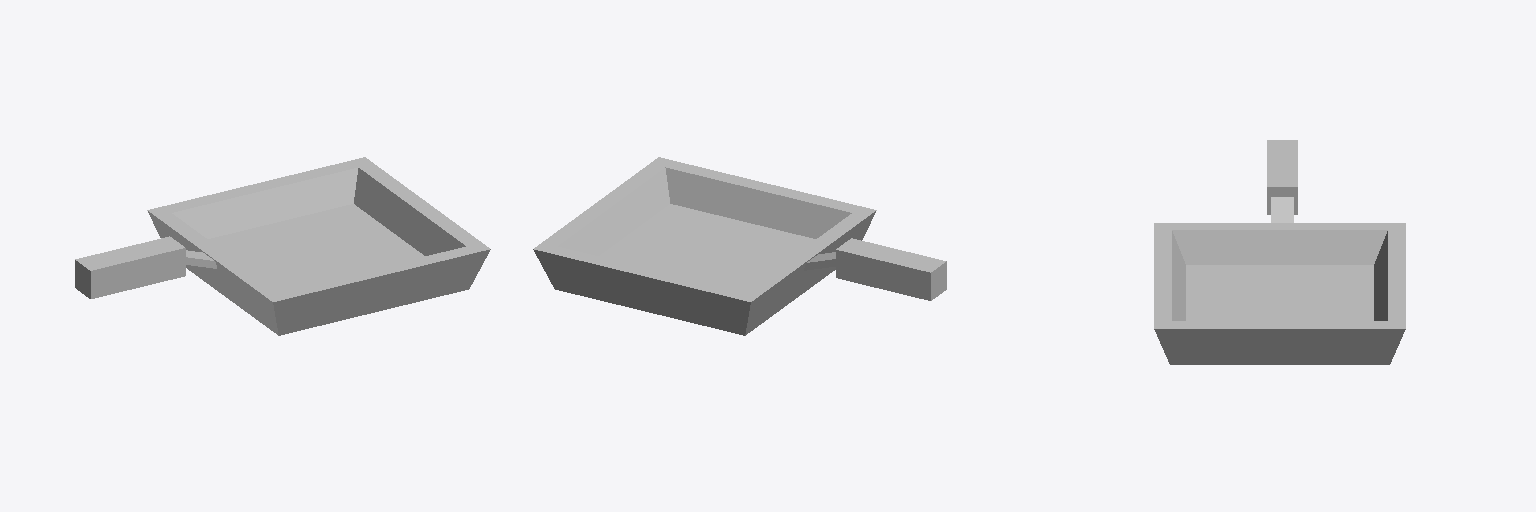
File: wok.obj
The picture shows the model from 3 angles: view 1: azimuth 30°, elevation 25°; view 2: azimuth 150°, elevation 25°; view 3: azimuth 270°, elevation 25°; orthographic projection.
Parts seen in each view (by area): view 1: Box061, Box062; view 2: Box061, Box062; view 3: Box061, Box062, Box063.
Part boxes in pixels (bbox=[...]): Box061: bbox=[147, 157, 490, 335]; Box062: bbox=[75, 236, 185, 298]; Box061: bbox=[533, 157, 876, 335]; Box062: bbox=[836, 238, 946, 300]; Box061: bbox=[1154, 223, 1405, 364]; Box062: bbox=[1267, 140, 1297, 214]; Box063: bbox=[1271, 197, 1293, 222].
Bounding box in the file's own units: 1.57 × 0.277 × 0.9934.